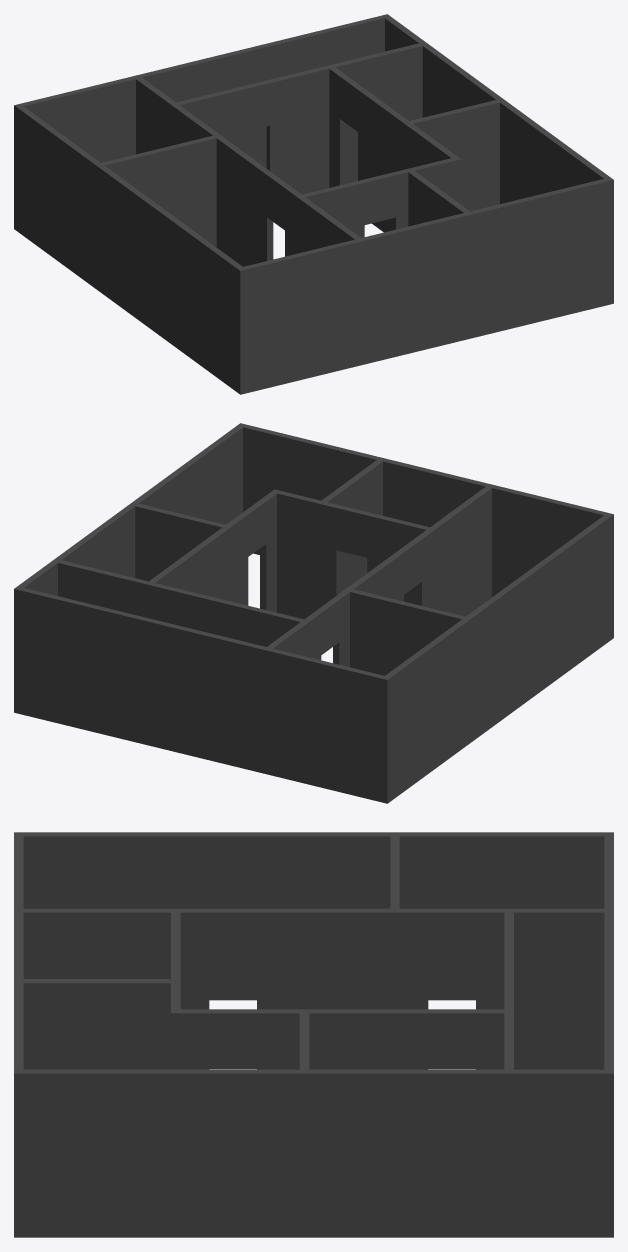
File: room.obj
3 views of the same model, one above another, from view 1: azimuth 30°, elevation 25°; view 2: azimuth 150°, elevation 25°; view 3: azimuth 270°, elevation 25° (orthographic). The views are drawn at different scales.
Parts seen in each view (by area): view 1: room; view 2: room; view 3: room.
Part boxes in pixels (bbox=[...]): room: bbox=[14, 14, 613, 394]; room: bbox=[14, 423, 613, 803]; room: bbox=[14, 832, 613, 1237].
Bounding box in the file's own units: 120 × 38 × 126.
